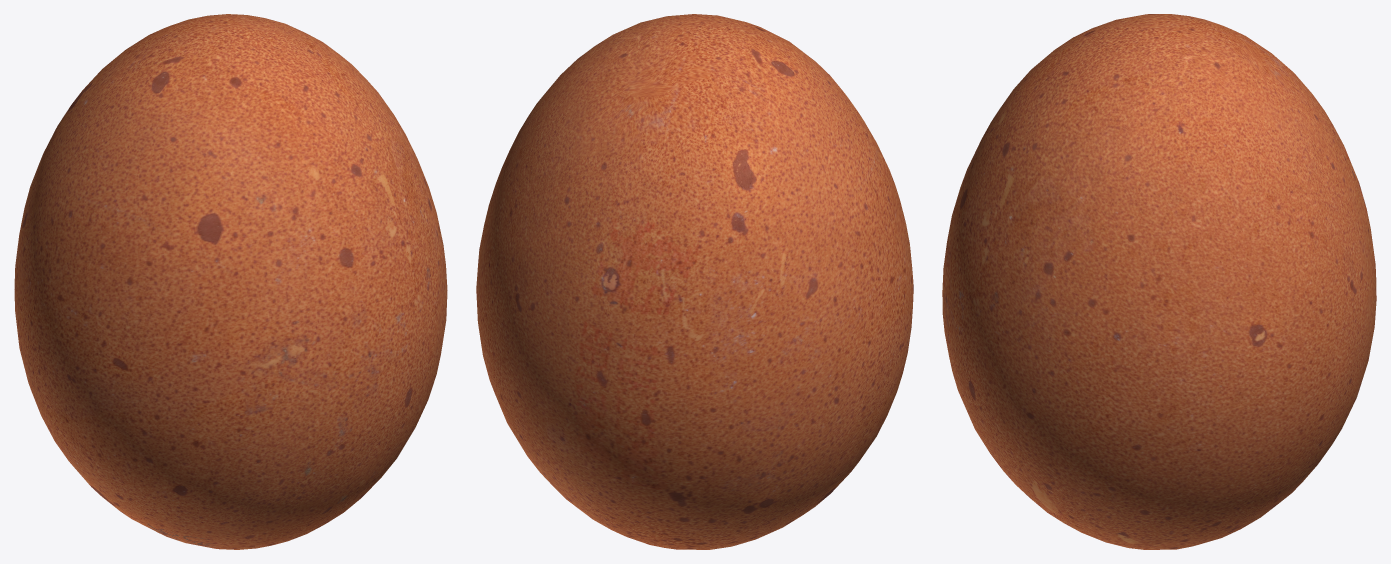
File: egg.glb
3 views of the same model, side by side, from view 1: azimuth 30°, elevation 25°; view 2: azimuth 150°, elevation 25°; view 3: azimuth 270°, elevation 25° (orthographic).
Visible parts, largest first — view 1: Object_2; view 2: Object_2; view 3: Object_2.
Boxes of the visible parts, x1=… form: Object_2: x1=14, y1=14, x2=447, y2=549; Object_2: x1=476, y1=14, x2=913, y2=549; Object_2: x1=942, y1=14, x2=1376, y2=549.
Bounding box in the file's own units: 5.76 × 7.38 × 5.76.
1 material, 1 textured.
